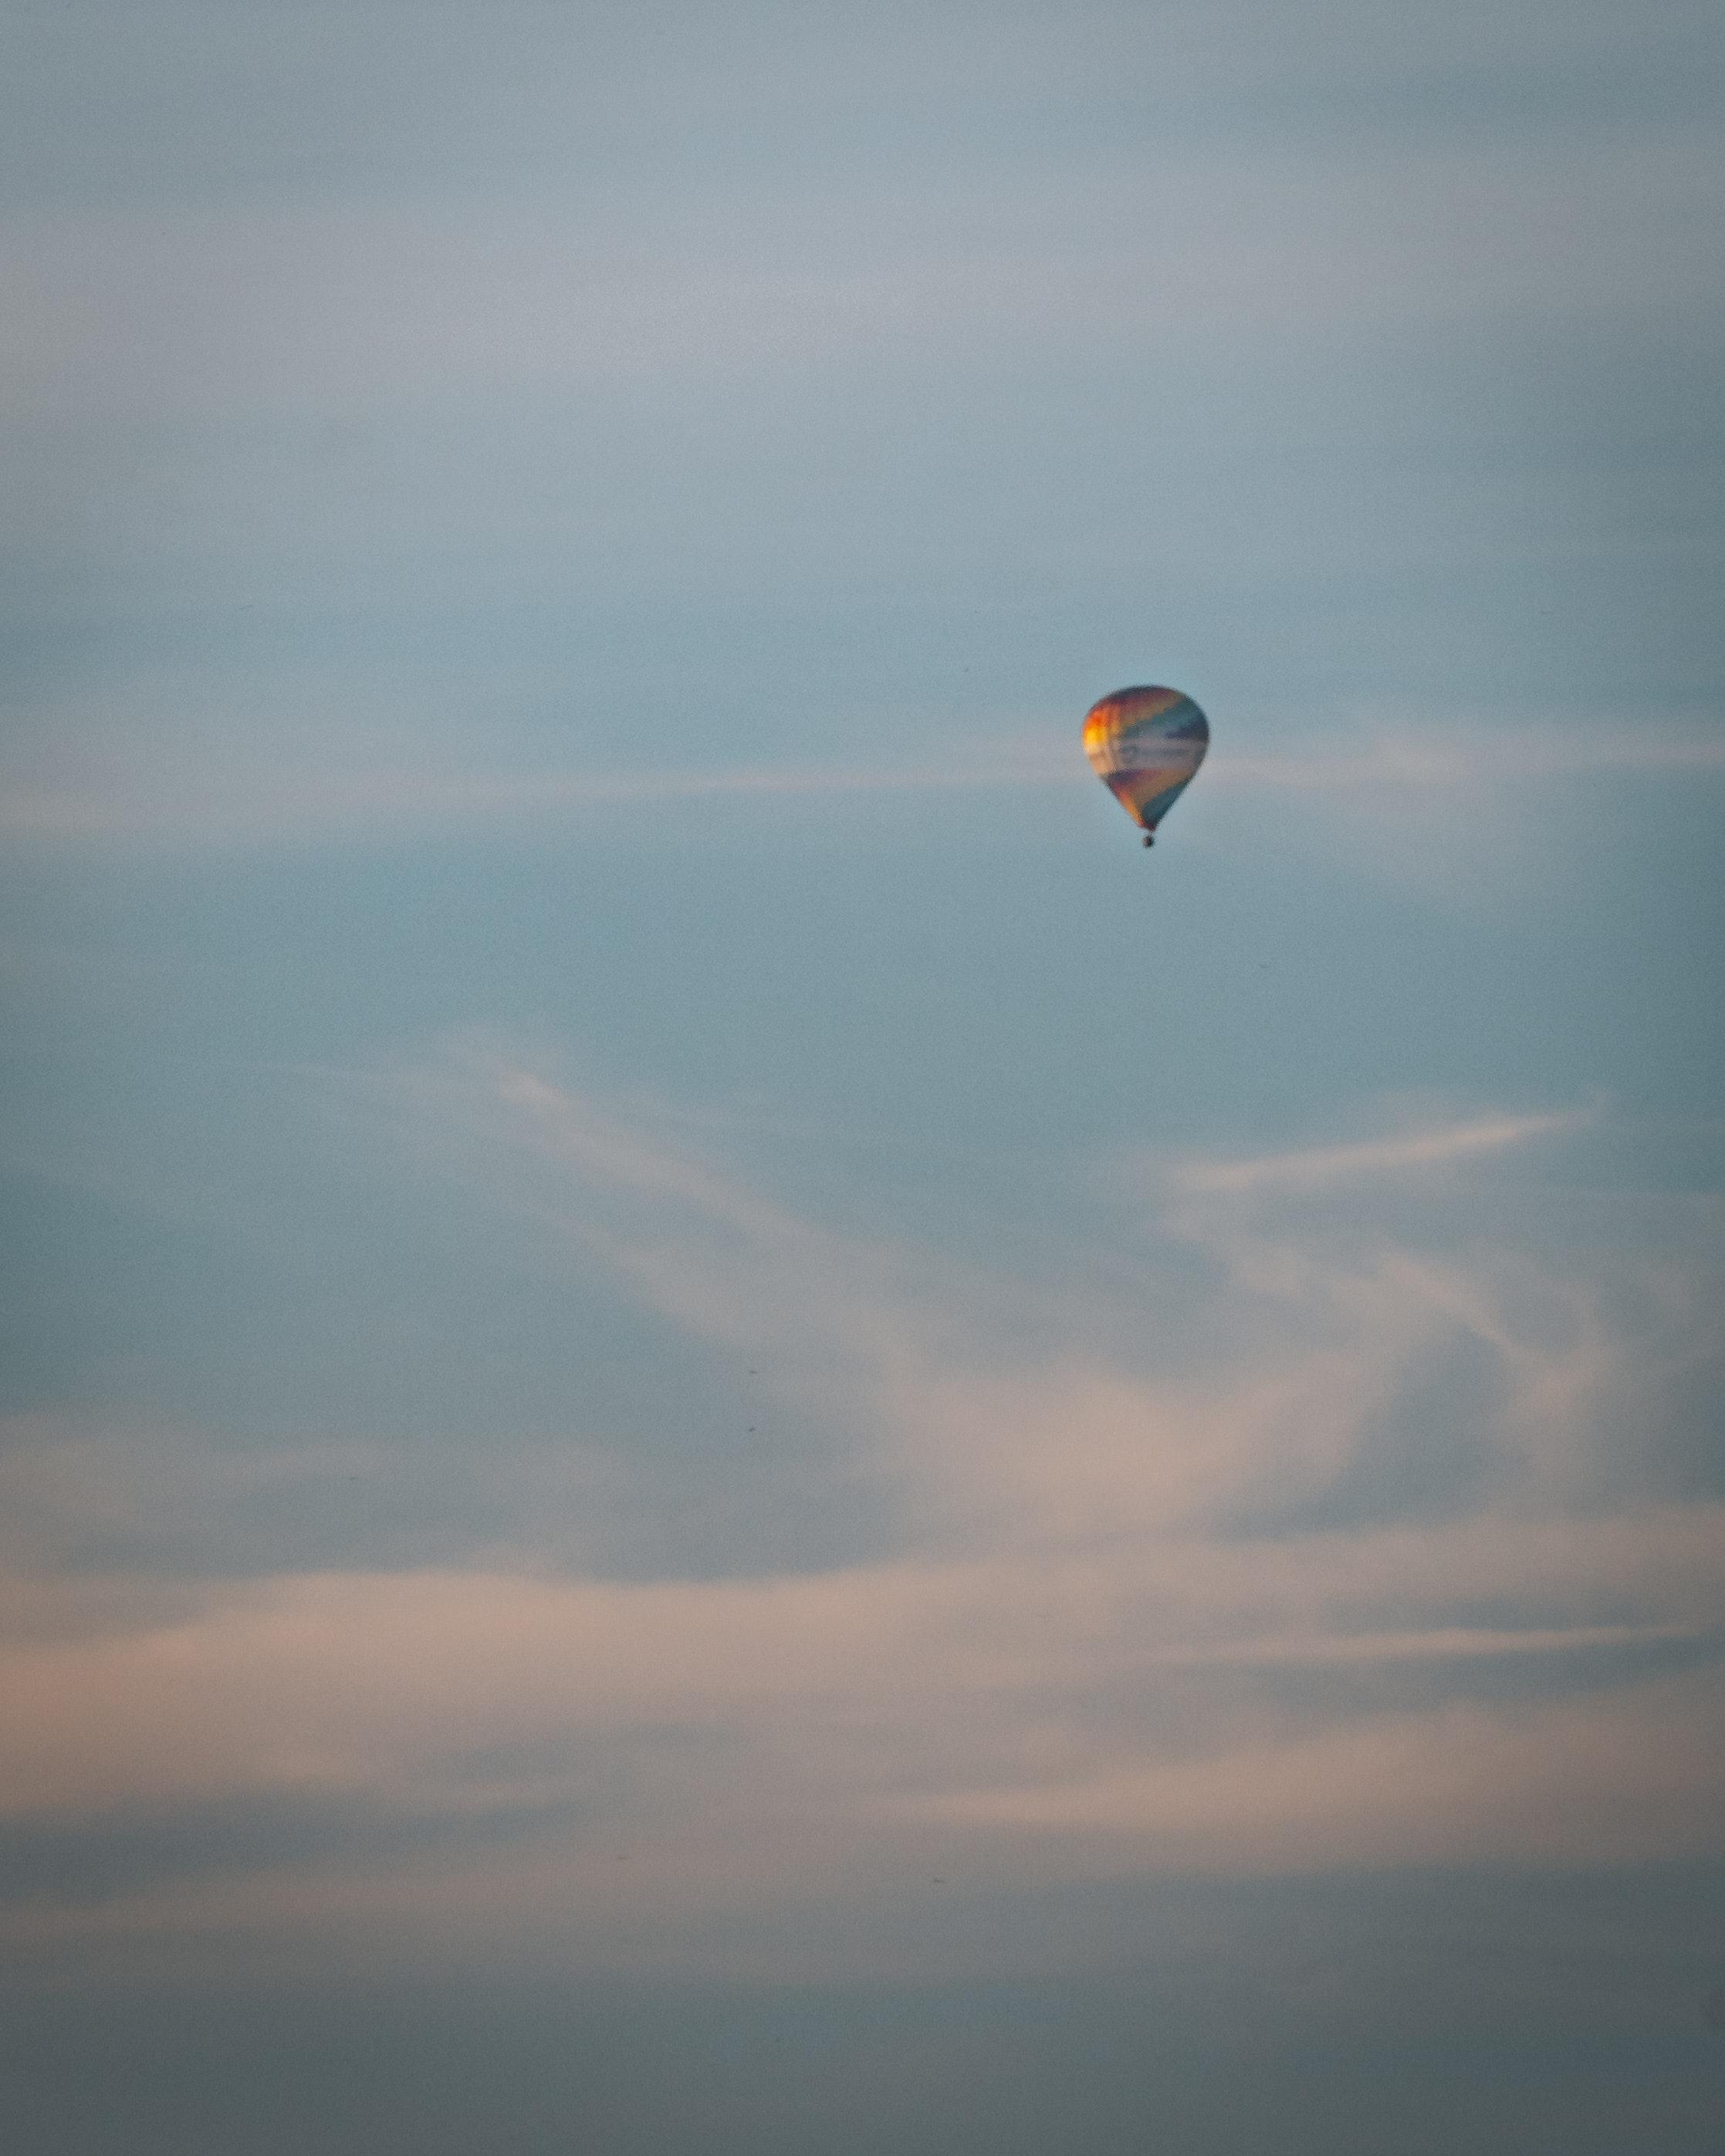hot air ballon: (1079, 685, 1211, 848)
